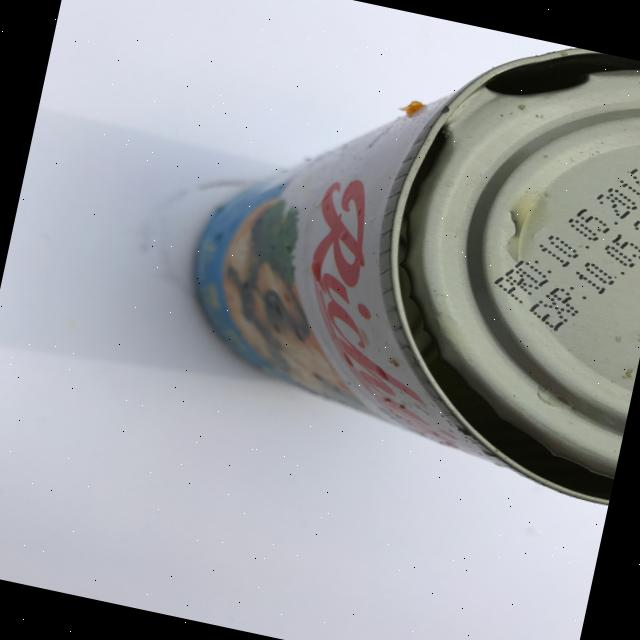metal: (158, 0, 640, 506)
